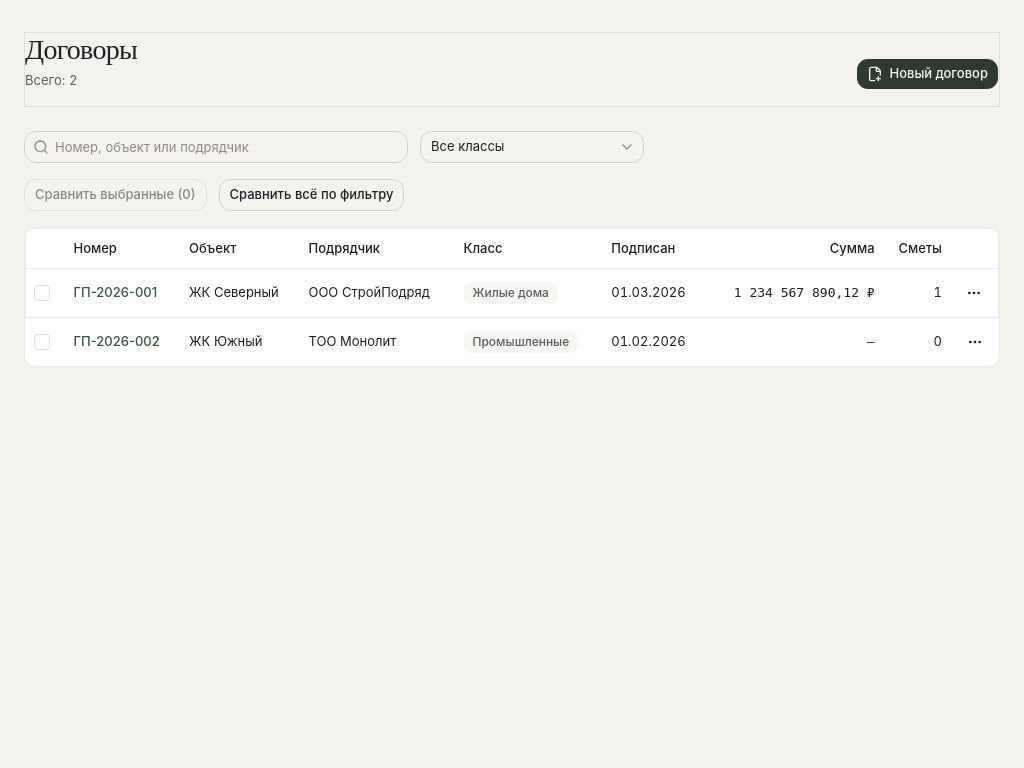
Экран «Договоры» (§7.1) › диалог называет ЧИСЛА удаляемого — смет и заданий
Expected: the link "ГП-2026-001" is shown, [74,284,157,300]
Click the button named "Действия с договором" in the row of "ГП-2026-001" at x=974, y=293, box [958,277,990,309]
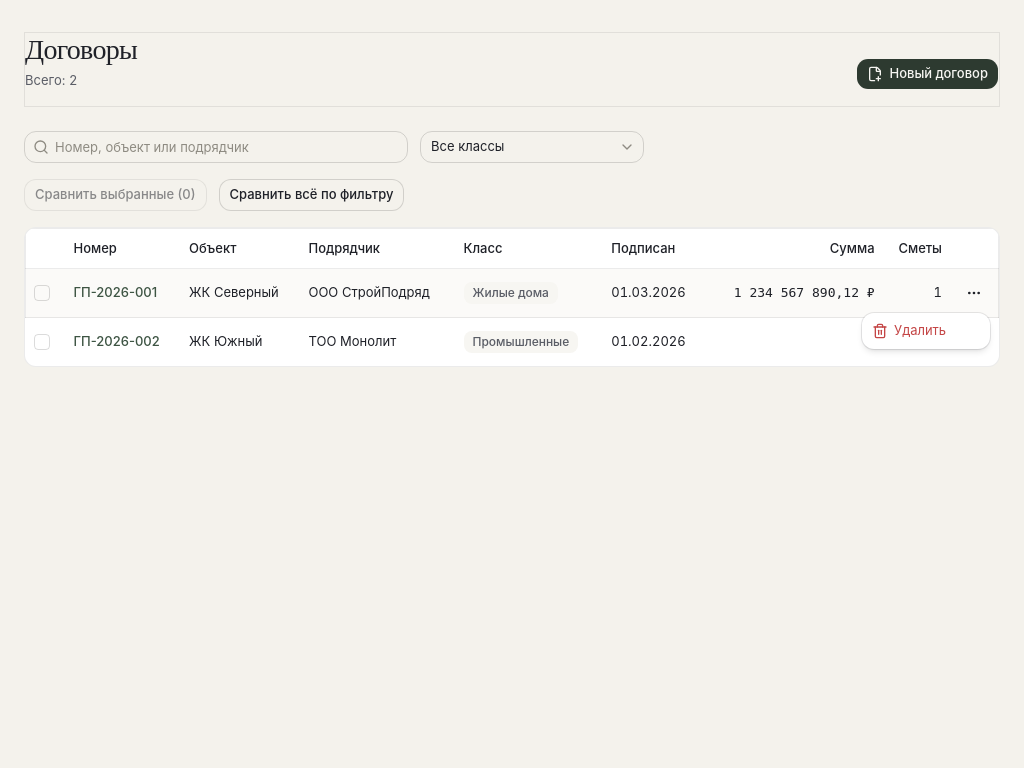
Click the menu item "Удалить" at x=909, y=330, box [872,322,946,339]
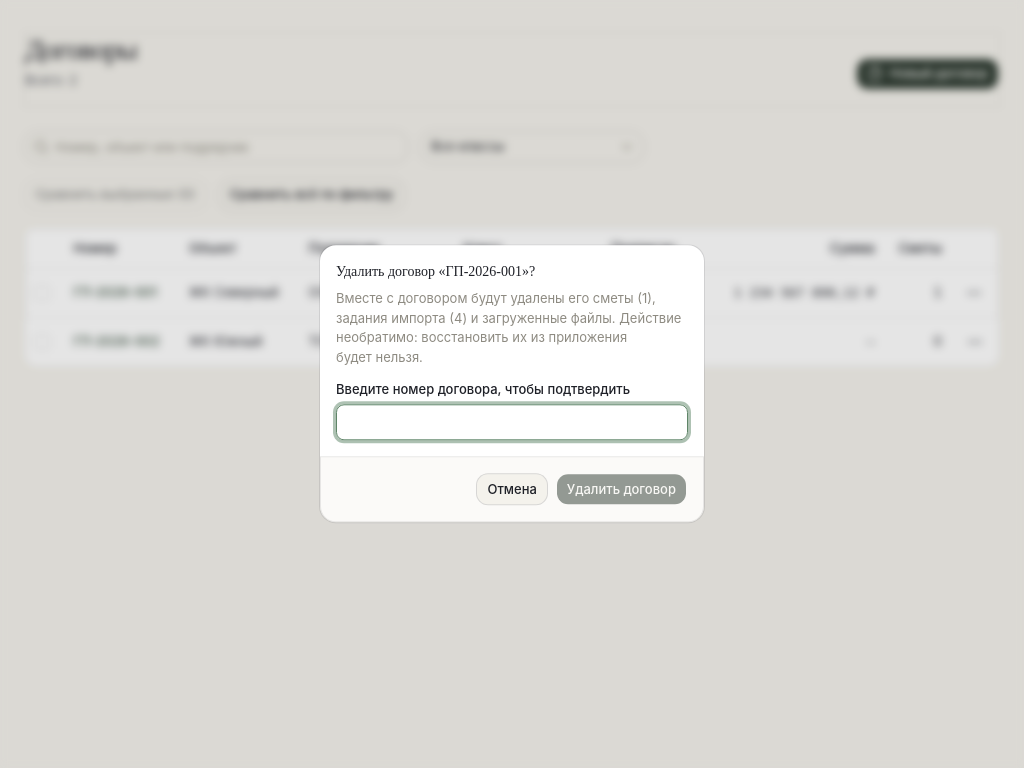
Result: the dialog shows "сметы (1)" at [320,245,704,523]
Result: the dialog shows "задания импорта (4)" at [320,245,704,523]
